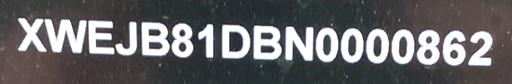letter: (44, 17, 88, 54), (281, 21, 315, 64), (250, 21, 282, 63), (136, 19, 170, 58), (468, 24, 496, 69), (220, 21, 250, 61), (14, 14, 46, 51), (440, 25, 468, 67), (87, 17, 117, 55), (413, 24, 441, 64), (170, 18, 196, 59), (314, 22, 340, 63), (364, 23, 390, 64), (338, 22, 364, 62), (390, 24, 414, 66), (196, 21, 220, 62), (114, 18, 138, 58)
